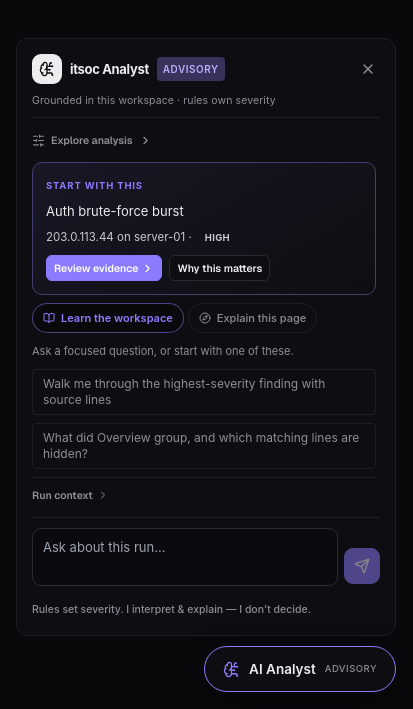
it: CB-1 — learned second opinion in the copilot rail › answers provenance from the sidecar and names what the sidecar does not record
This screenshot has width=413, height=709.
In the text box: point(185, 557) x1=32 y1=528 x2=338 y2=586, type "How was this model trained?"
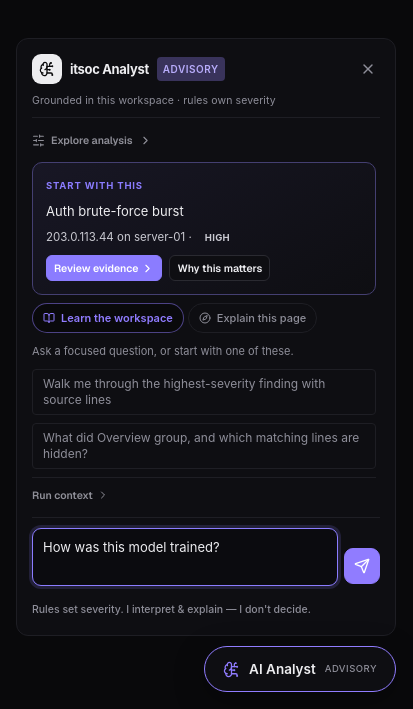
Click the button named "send": point(362, 566) x1=344 y1=548 x2=380 y2=584
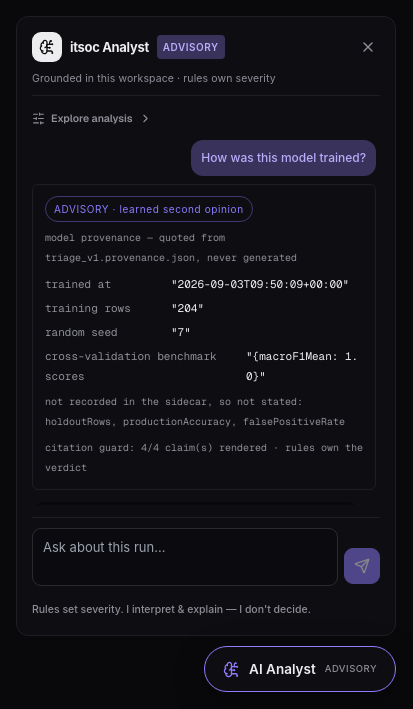
Now the number of elements with test id "copilot-learned-prov-field" is 4, box x1=45 y1=277 x2=349 y2=291; x1=45 y1=301 x2=204 y2=315; x1=45 y1=325 x2=191 y2=339; x1=45 y1=344 x2=363 y2=388
Now the element with test id "copilot-learned-prov-field" shows "2026-09-03T09:50:09+00:00", box x1=171 y1=277 x2=349 y2=291
Now the element with test id "copilot-learned-prov-field" shows "204", box x1=171 y1=301 x2=204 y2=315
